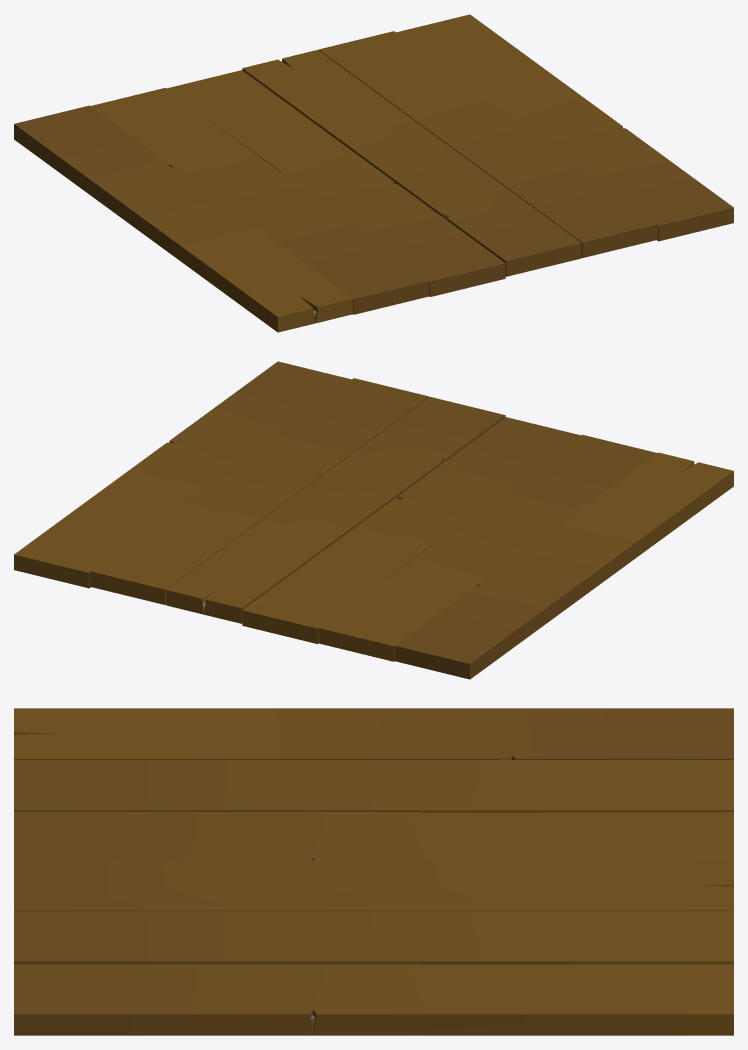
The model's file is WoodenGround.fbx.
3 renders of one model, top to bottom at view 1: azimuth 30°, elevation 25°; view 2: azimuth 150°, elevation 25°; view 3: azimuth 270°, elevation 25°, orthographic. The views are drawn at different scales.
Visible parts, largest first — view 1: WoodenGround; view 2: WoodenGround; view 3: WoodenGround.
Part boxes in pixels (x1,y1,x2,y2): WoodenGround: [14, 14, 733, 332]; WoodenGround: [14, 361, 733, 679]; WoodenGround: [14, 708, 733, 1035].
Size of the model in its own units: 170 by 6.2 by 171.
